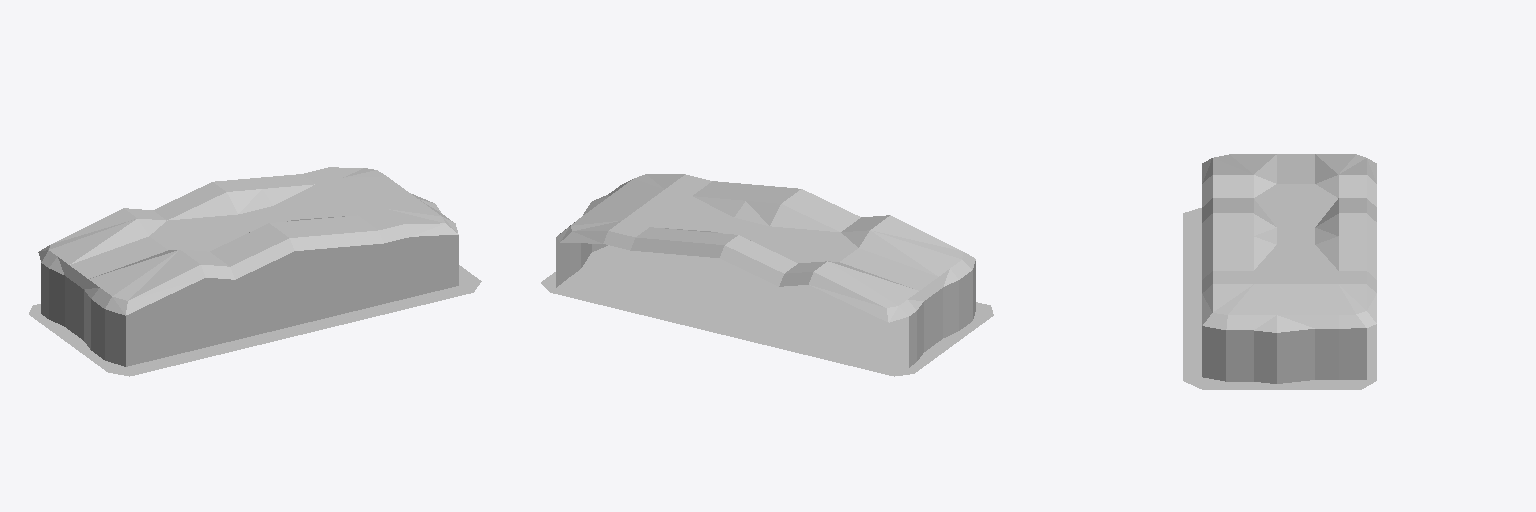
Rendered from Oreburgh Mine Slab.obj.
The picture shows the model from 3 angles: view 1: azimuth 30°, elevation 25°; view 2: azimuth 150°, elevation 25°; view 3: azimuth 270°, elevation 25°; orthographic projection.
Visible parts, largest first — view 1: polygon3, polygon1, polygon2, polygon0; view 2: polygon0, polygon1, polygon3, polygon2; view 3: polygon2, polygon3, polygon1, polygon0.
Part boxes in pixels (left/top/right/bottom): polygon3: left=38, top=194, right=458, bottom=366; polygon1: left=49, top=182, right=288, bottom=300; polygon2: left=214, top=167, right=444, bottom=237; polygon0: left=29, top=265, right=481, bottom=376; polygon0: left=541, top=245, right=993, bottom=376; polygon1: left=725, top=189, right=962, bottom=307; polygon3: left=556, top=179, right=975, bottom=367; polygon2: left=571, top=174, right=800, bottom=244; polygon2: left=1213, top=213, right=1366, bottom=314; polygon3: left=1202, top=158, right=1376, bottom=383; polygon1: left=1213, top=154, right=1366, bottom=226; polygon0: left=1183, top=208, right=1376, bottom=389.
Bounding box in the file's own units: 336 × 73 × 151.